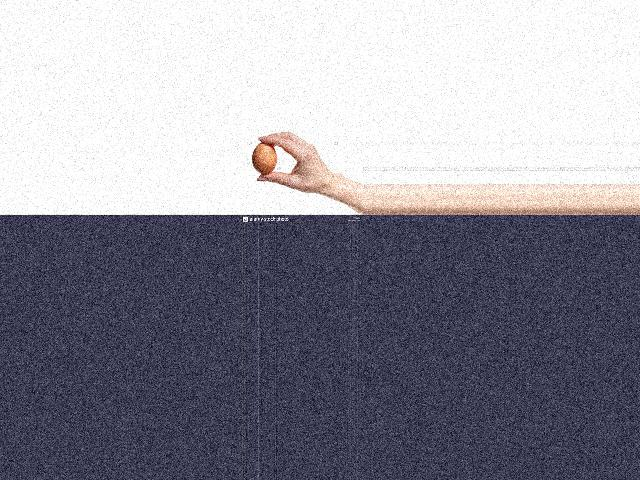egg: (252, 143, 278, 174)
